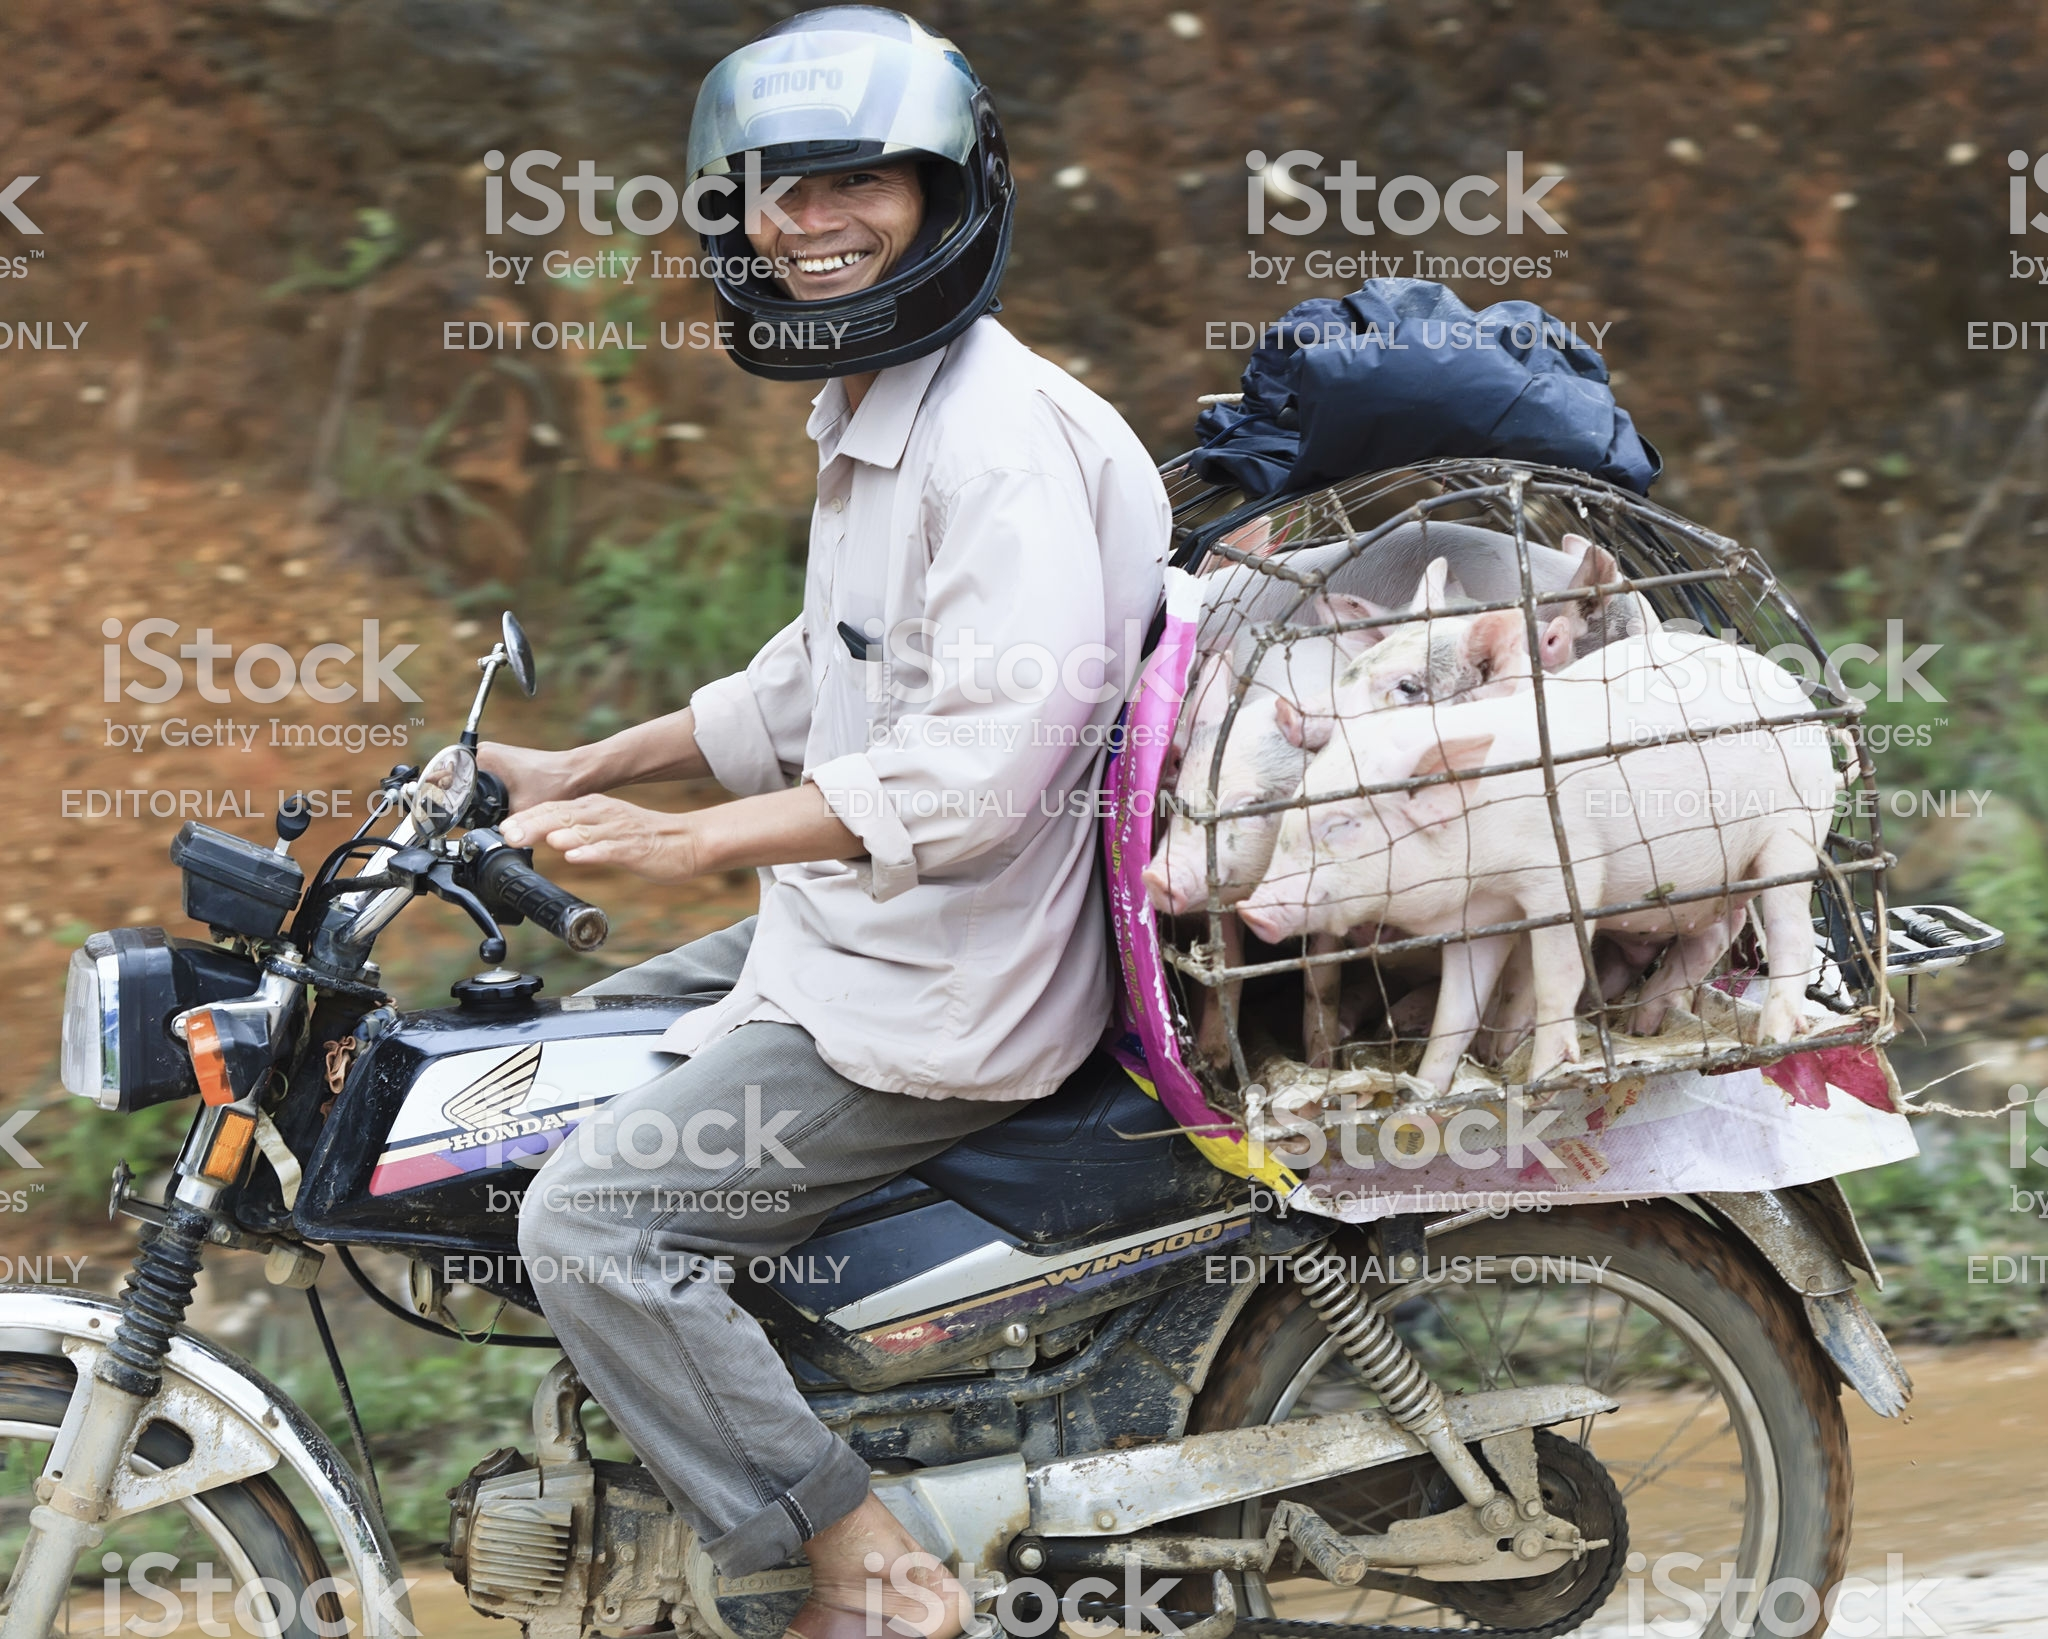helmet: (665, 23, 1010, 346)
